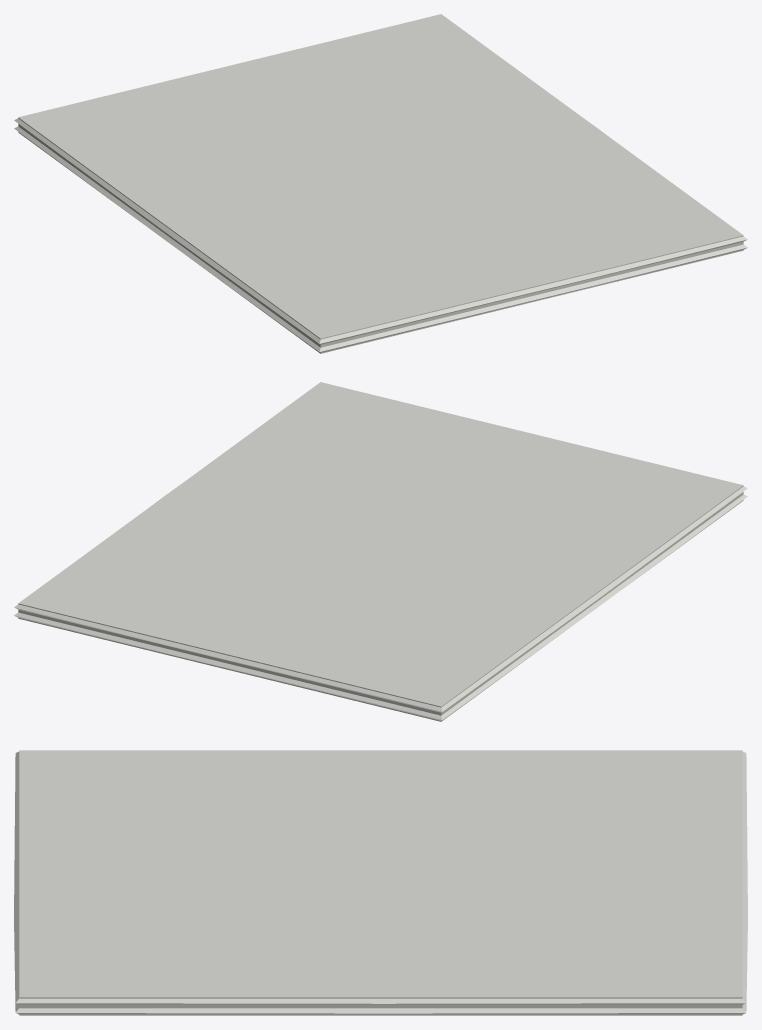
Rendered from SM_exterior_top_roof.fbx.
3 views of the same model, one above another, from view 1: azimuth 30°, elevation 25°; view 2: azimuth 150°, elevation 25°; view 3: azimuth 270°, elevation 25° (orthographic). The views are drawn at different scales.
Visible parts, largest first — view 1: exterior_top_roof; view 2: exterior_top_roof; view 3: exterior_top_roof.
Boxes of the visible parts, box(x1,y1,x2,y2) form: exterior_top_roof: box(14, 14, 747, 353); exterior_top_roof: box(14, 382, 747, 721); exterior_top_roof: box(14, 750, 747, 1015).
Bounding box in the file's own units: 1192 × 40.45 × 1470.
